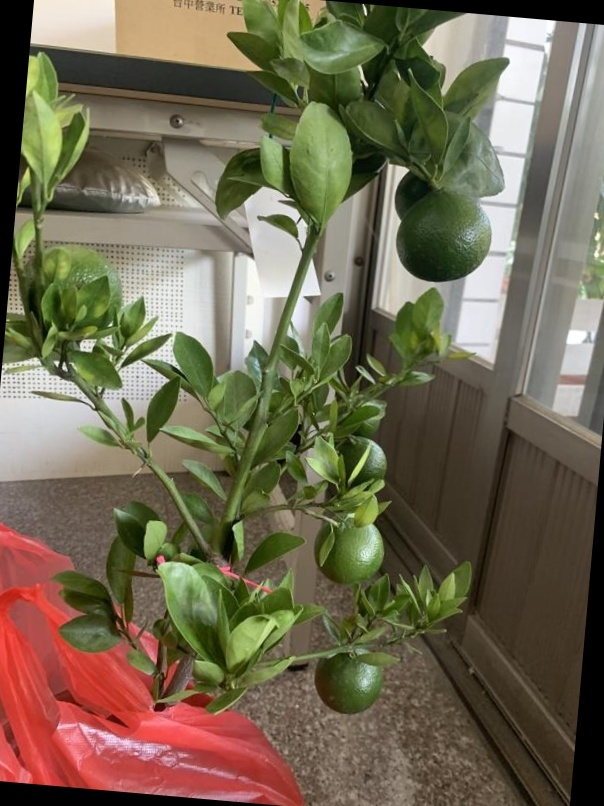Tangerine: (398, 191, 495, 286), (313, 507, 386, 583), (316, 641, 386, 717), (337, 435, 388, 486)
